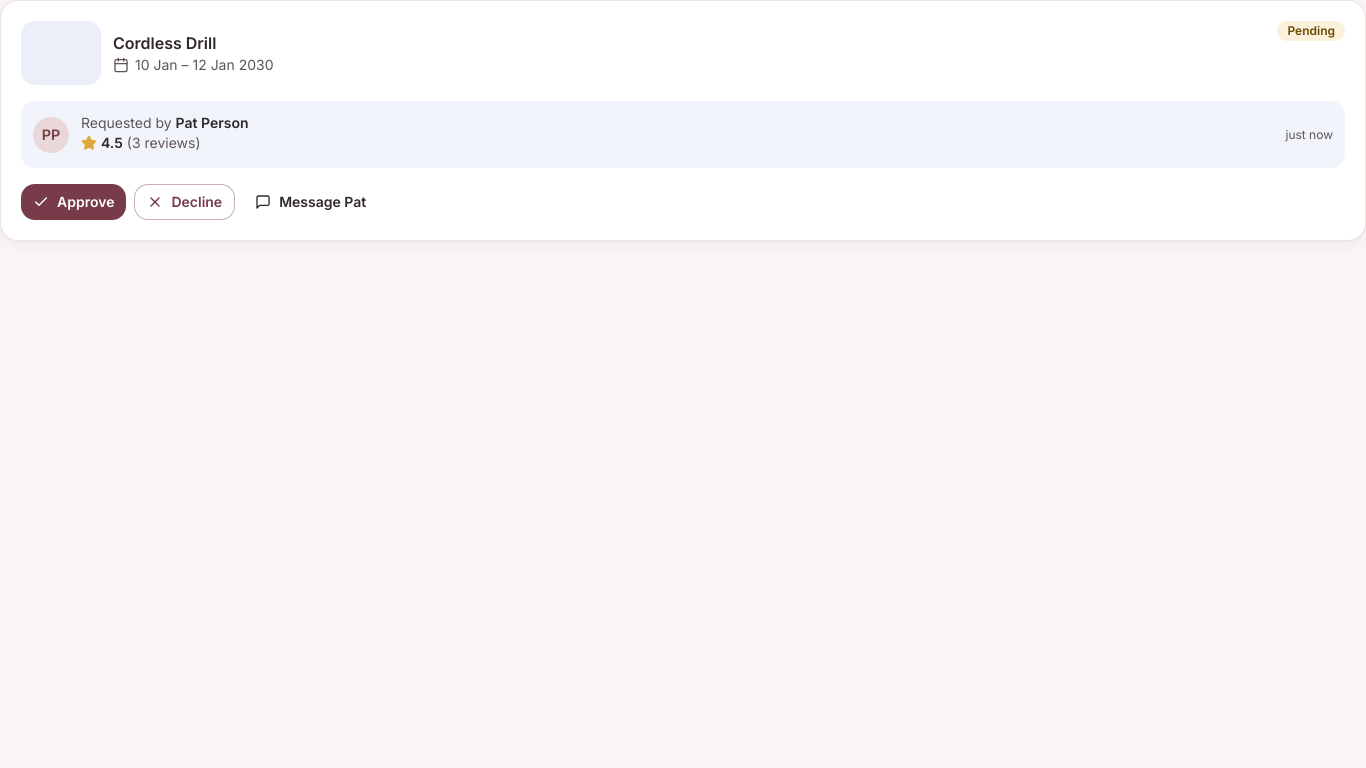
Test: RequestCard role-based actions › asks for confirmation before approving
Click the button "Approve".
click(74, 202)  # box [21,184,126,220]
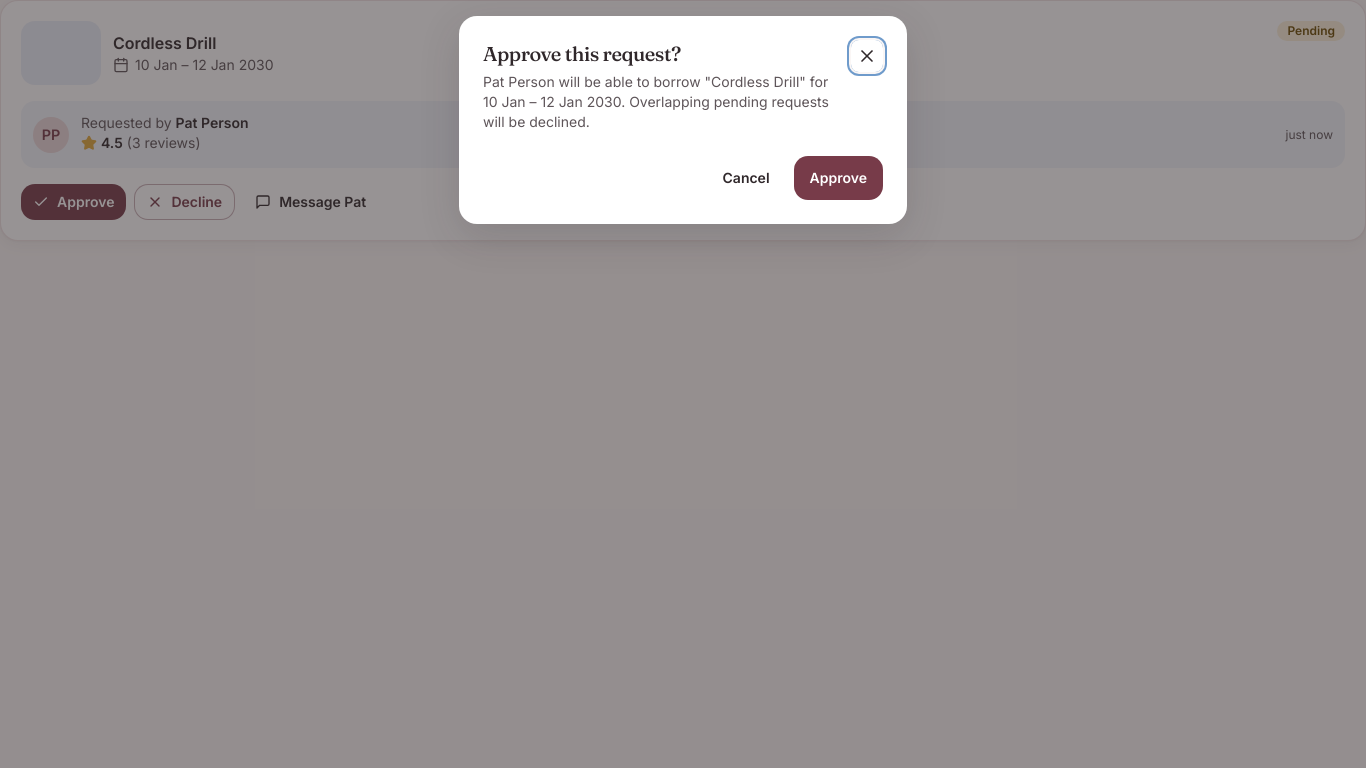
Expected: the heading "Approve this request?" is shown, [483,41,681,66]
